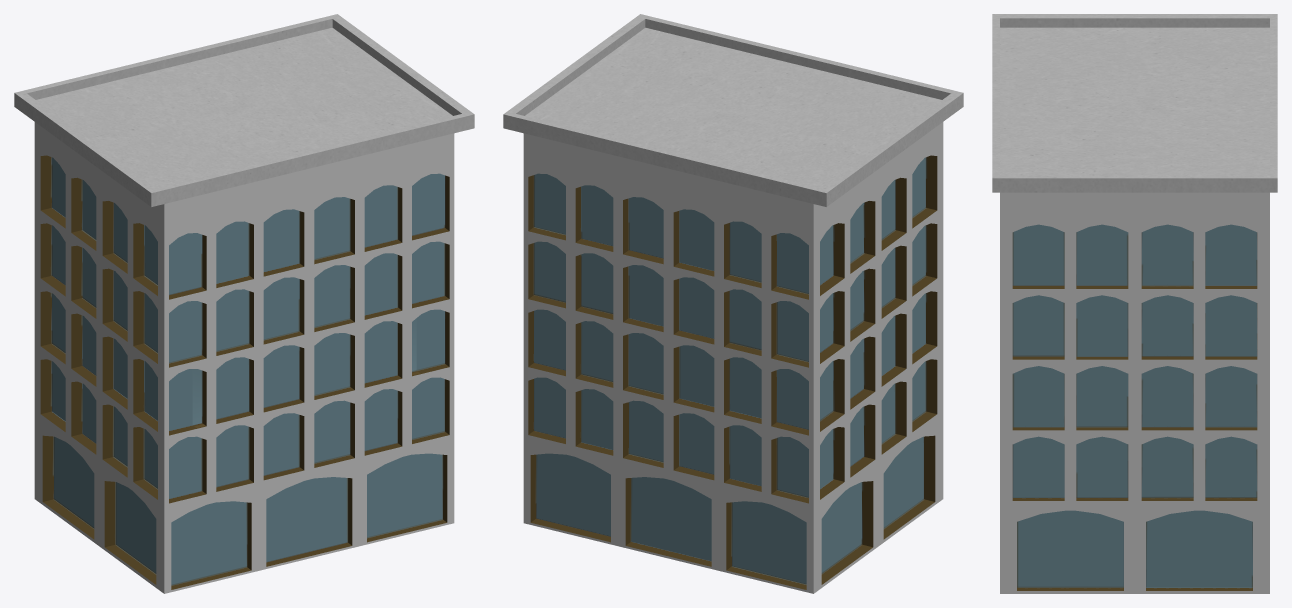
Rendered from CityBuilding_Small.fbx.
3 views of the same model, side by side, from view 1: azimuth 30°, elevation 25°; view 2: azimuth 150°, elevation 25°; view 3: azimuth 270°, elevation 25° (orthographic). The views are drawn at different scales.
Parts seen in each view (by area): view 1: CitySmallerBuilding1; view 2: CitySmallerBuilding1; view 3: CitySmallerBuilding1.
Boxes of the visible parts, x1,y1,x2,y2 form: CitySmallerBuilding1: (14, 14, 474, 593); CitySmallerBuilding1: (503, 14, 963, 593); CitySmallerBuilding1: (992, 14, 1277, 593).
Size of the model in its own units: 3.34 by 4.03 by 2.46.
